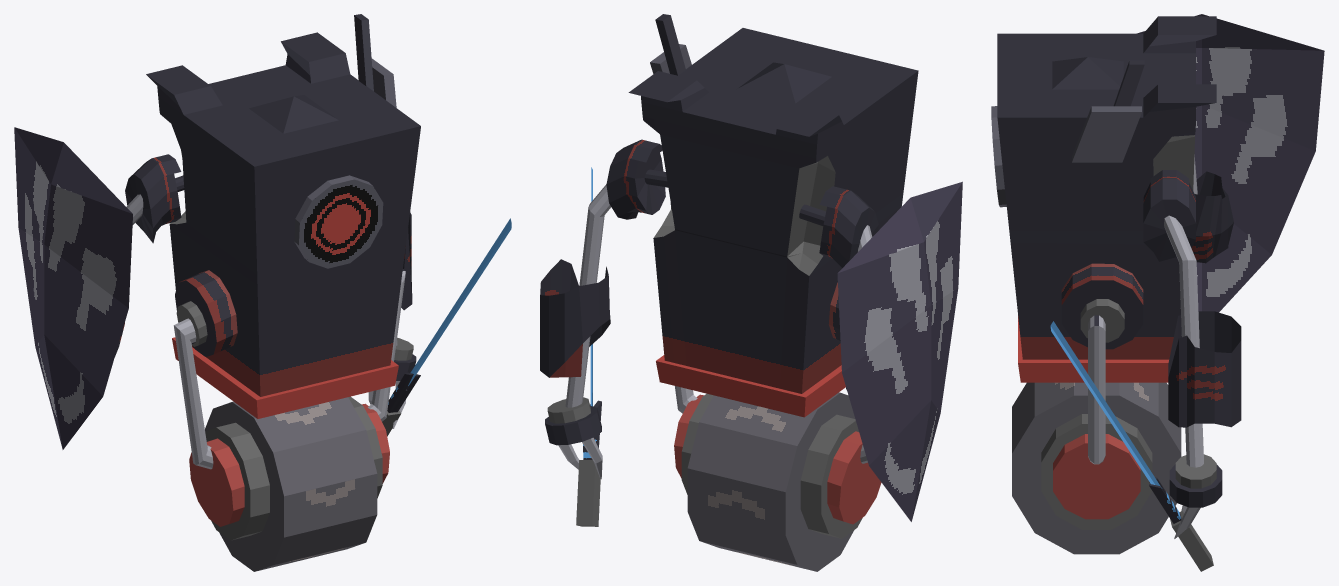
File: minion3inimigo.gltf
The picture shows the model from 3 angles, left to right: view 1: azimuth 30°, elevation 25°; view 2: azimuth 150°, elevation 25°; view 3: azimuth 270°, elevation 25°; orthographic projection. The views are drawn at different scales.
Parts seen in each view (by area): view 1: corpo, braco d, roda, ombro d, espada, braco e, mao garra e; view 2: corpo, braco d, roda, braco e, ombro e, ombro d, mao garra e, espada; view 3: corpo, braco d, roda, braco e, ombro e, espada, mao garra e.
Part boxes in pixels (x1,y1,x2,y2): corpo: (146,14,420,540); braco d: (14,127,143,449); roda: (205,397,377,571); ombro d: (125,154,181,243); espada: (382,218,511,436); braco e: (396,212,412,345); mao garra e: (394,338,416,380); corpo: (628,14,918,538); braco d: (837,181,962,521); roda: (687,392,855,571); braco e: (540,184,610,407); ombro e: (606,139,665,219); ombro d: (819,186,878,267); mao garra e: (545,397,601,445); espada: (576,167,601,526); corpo: (991,16,1216,529); braco d: (1137,14,1324,312); roda: (1012,382,1181,554); braco e: (1164,215,1241,467); ombro e: (1143,170,1196,261); espada: (1050,321,1213,571); mao garra e: (1169,454,1222,507).
Bounding box in the file's own units: 10.05 × 12.15 × 7.13.
Materials: 1 (1 with a texture image).
